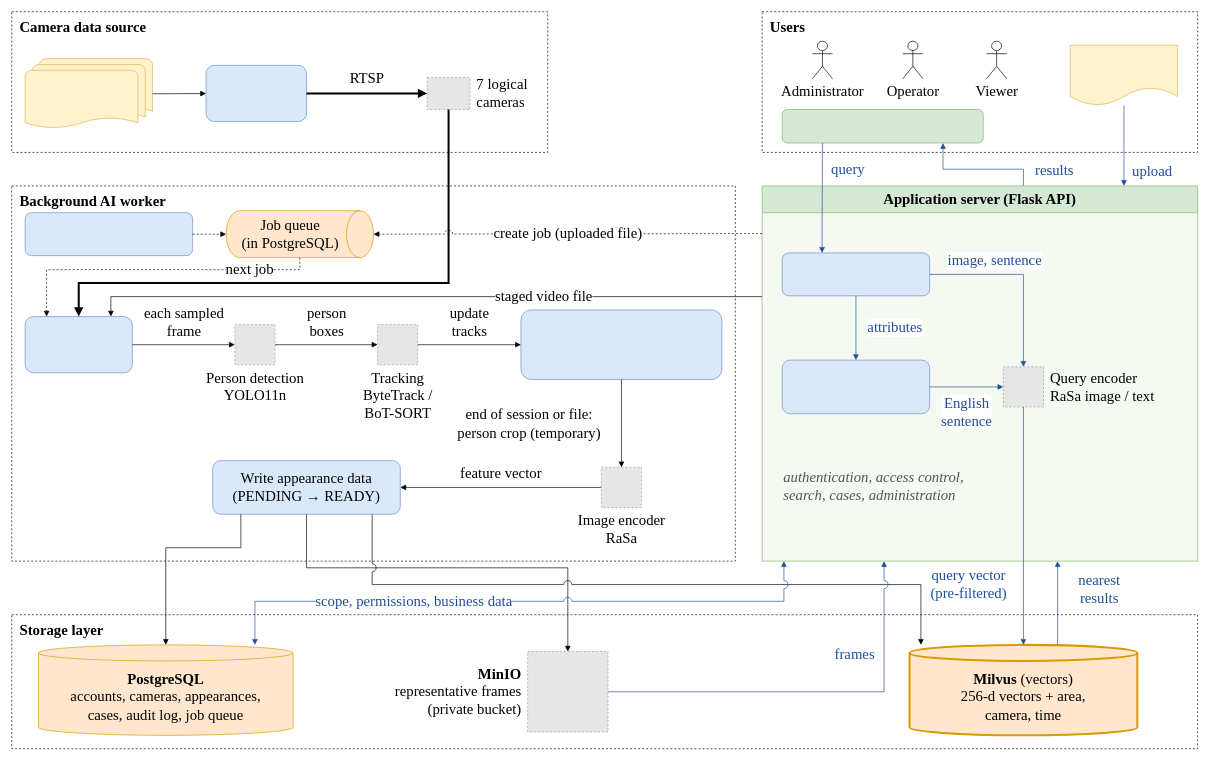
This 1209x760 diagram has some shape labels left out. Grey dashed boxes stand in for pictures. The centre of each missing label's shape, as x and y in pixels:
"7 video files (WILDTRACK)" belongs at (x=88, y=93).
"Build a sentence from attributes" belongs at (x=856, y=386).
"FFmpeg + MediaMTX" belongs at (x=256, y=93).
"Frame sampling (1/N)" belongs at (x=78, y=344).
"RTSP session scheduler (camera rotation)" belongs at (x=108, y=234).
"Track buffer active tracks, representative frame candidates" belongs at (x=621, y=344).
"Uploaded video file" belongs at (x=1124, y=75).
"Validate query" belongs at (x=856, y=274).
"Web application (React)" belongs at (x=882, y=126).
